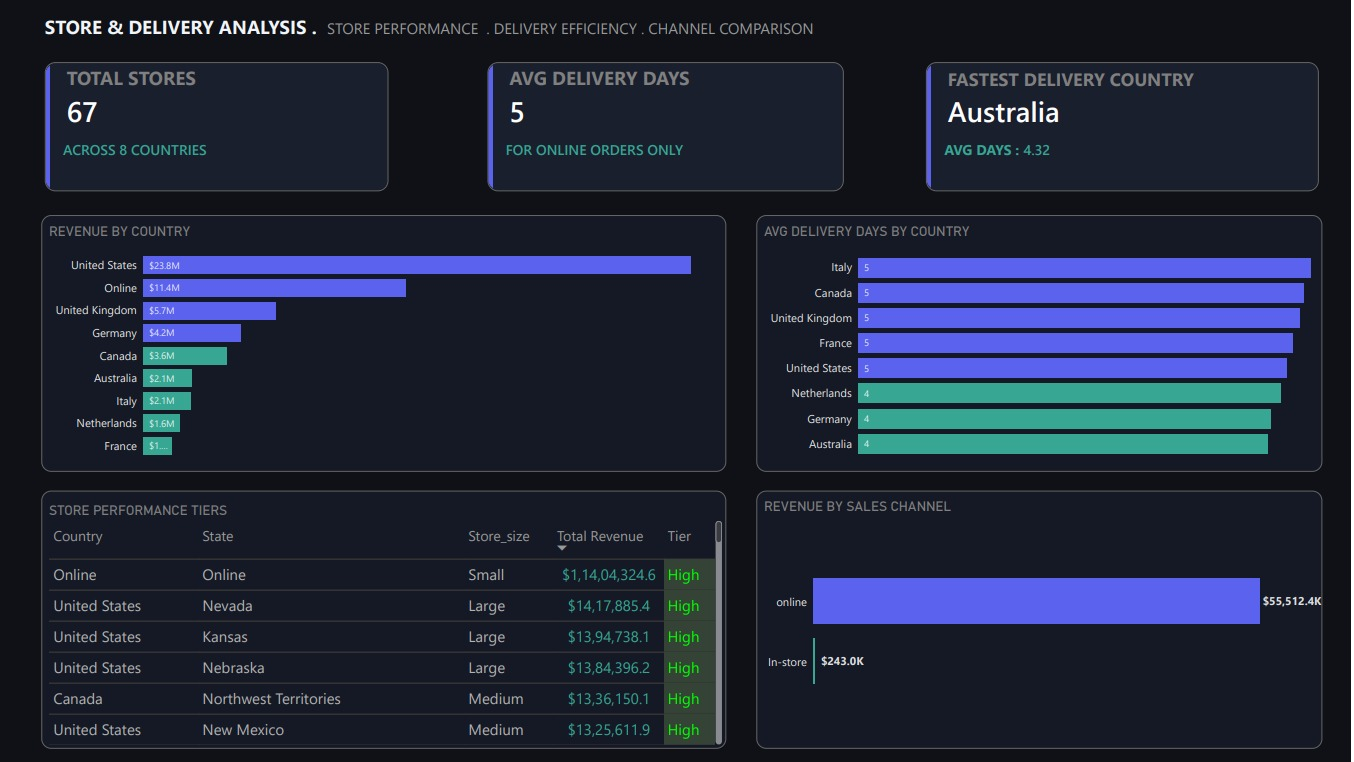

Layout of this report page (visuals, bound fields, positions):
{"tool":"powerbi","page":{"name":"Store analysis","canvas":[1920,1080],"ordinal":3},"visuals":[{"type":"cardVisual","fields":{"Data":["_Measures.Total stores"]},"box":[58.9,82.1,498.2,192.9],"z":0},{"type":"cardVisual","fields":{"Data":["_Measures.AVG DELIVERY DAYS"]},"box":[687.5,82.1,516.1,192.9],"z":1000},{"type":"cardVisual","fields":{"Data":["_Measures.fastest delivery country"]},"box":[1310.7,82.1,567.9,192.9],"z":2000},{"type":"clusteredBarChart","title":"REVENUE BY COUNTRY","fields":{"Category":["stores.Country"],"Y":["_Measures.Total Revenue"]},"box":[58.9,303.6,973.2,364.3],"z":3000},{"type":"clusteredBarChart","title":"AVG DELIVERY DAYS BY COUNTRY","fields":{"Category":["customers.Country"],"Y":["_Measures.AVG DELIVERY DAYS"]},"box":[1075,303.6,803.6,364.3],"z":4000},{"type":"clusteredBarChart","title":"REVENUE BY SALES CHANNEL","fields":{"Category":["sales.Sales_channel"],"Y":["_Measures.Total Revenue"]},"box":[1075,694.6,803.6,366.1],"z":5000},{"type":"tableEx","title":"STORE PERFORMANCE TIERS","fields":{"Values":["stores.Country","stores.State","stores.Store_size","_Measures.Total Revenue","_Measures.Tier"]},"box":[58.9,694.6,973.2,366.1],"z":6000},{"type":"textbox","box":[58.9,12.5,1417.9,57.1],"z":6001}]}

Visuals, with their boxes in screenshot pixels (x1, y1, x2, y2), scaled from the page's 1920x1080 canvas onto the 1354x762 screenshot:
cardVisual - _Measures.Total stores: (x1=42, y1=58, x2=393, y2=194)
cardVisual - _Measures.AVG DELIVERY DAYS: (x1=485, y1=58, x2=849, y2=194)
cardVisual - _Measures.fastest delivery country: (x1=924, y1=58, x2=1325, y2=194)
"REVENUE BY COUNTRY" clusteredBarChart: (x1=42, y1=214, x2=728, y2=471)
"AVG DELIVERY DAYS BY COUNTRY" clusteredBarChart: (x1=758, y1=214, x2=1325, y2=471)
"REVENUE BY SALES CHANNEL" clusteredBarChart: (x1=758, y1=490, x2=1325, y2=748)
"STORE PERFORMANCE TIERS" tableEx: (x1=42, y1=490, x2=728, y2=748)
textbox: (x1=42, y1=9, x2=1041, y2=49)
